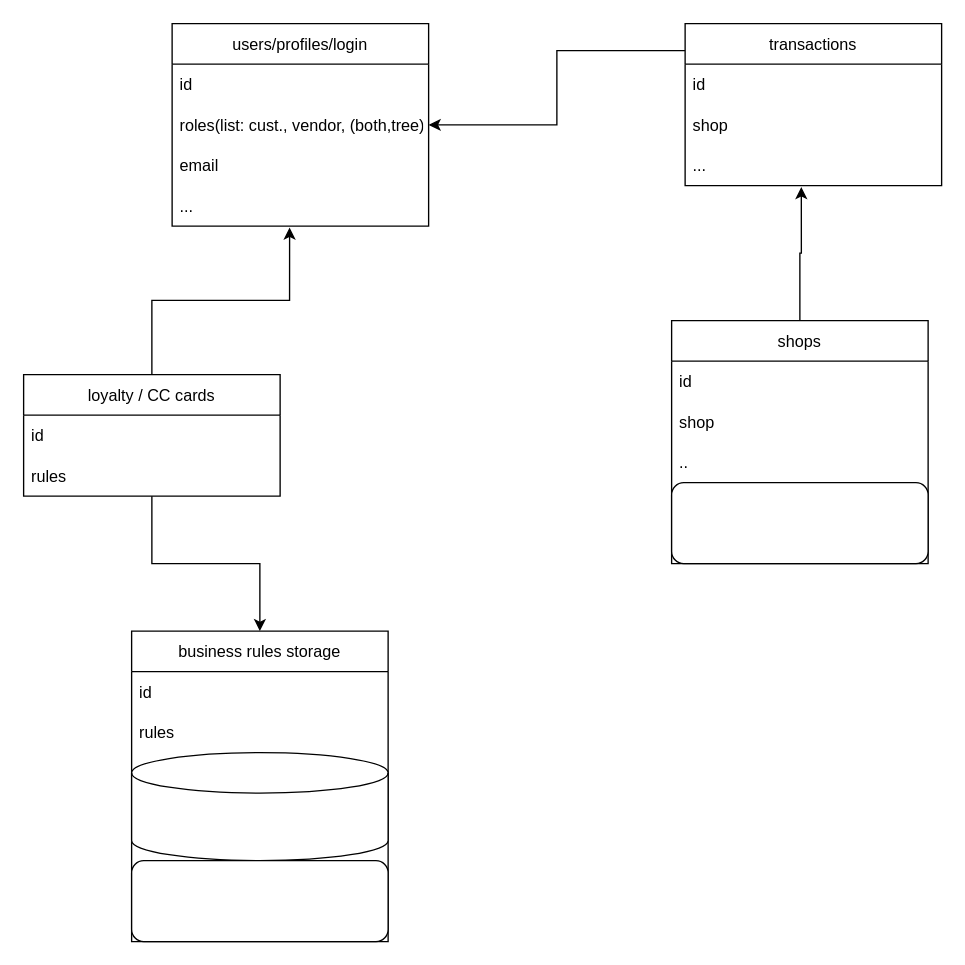
This 965x965 diagram has some shape labels left out. Here are the shapes that lost their labels. From the top down, the centre of each, then its label:
At point (799, 522): "requirements: -headless / API based".
At point (259, 806): "Solana blockchain maybe".
At point (259, 900): "requirements: -headless / API based - rules could be based on 'anything'".
